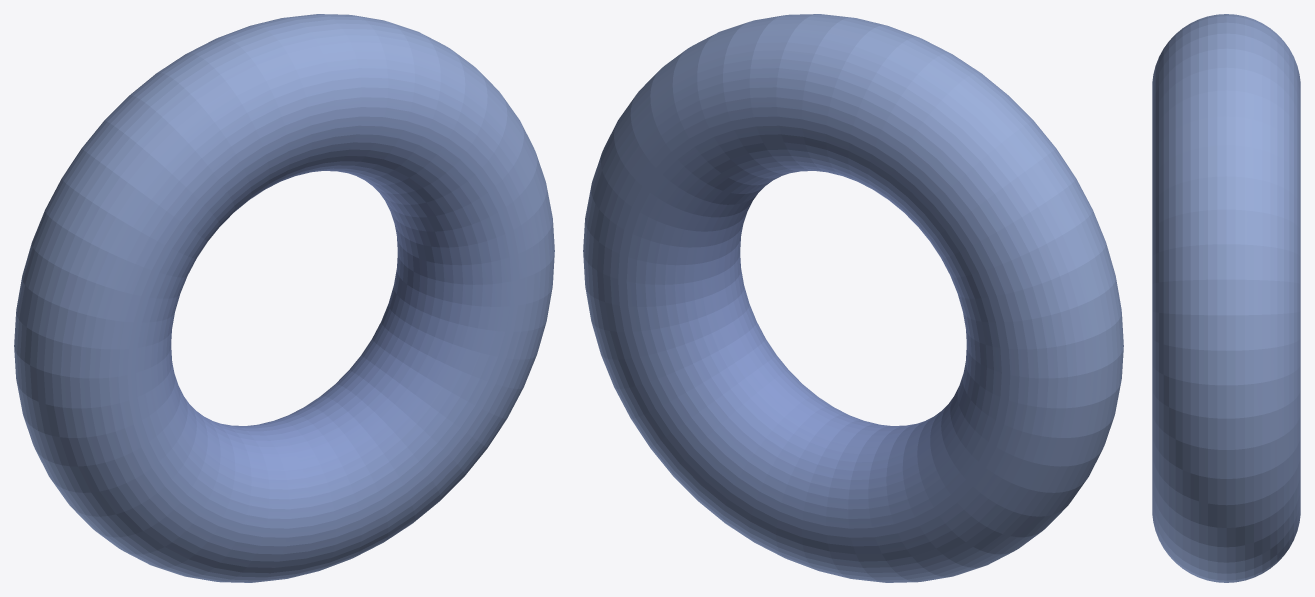
3 views of the same model, side by side, from view 1: azimuth 30°, elevation 25°; view 2: azimuth 150°, elevation 25°; view 3: azimuth 270°, elevation 25° (orthographic). The views are drawn at different scales.
Parts seen in each view (by area): view 1: world; view 2: world; view 3: world.
Part boxes in pixels (x1=…): world: x1=14, y1=14, x2=554, y2=582; world: x1=583, y1=14, x2=1123, y2=582; world: x1=1152, y1=14, x2=1300, y2=582.
Bounding box in the file's own units: 19.87 × 19.83 × 5.19.
